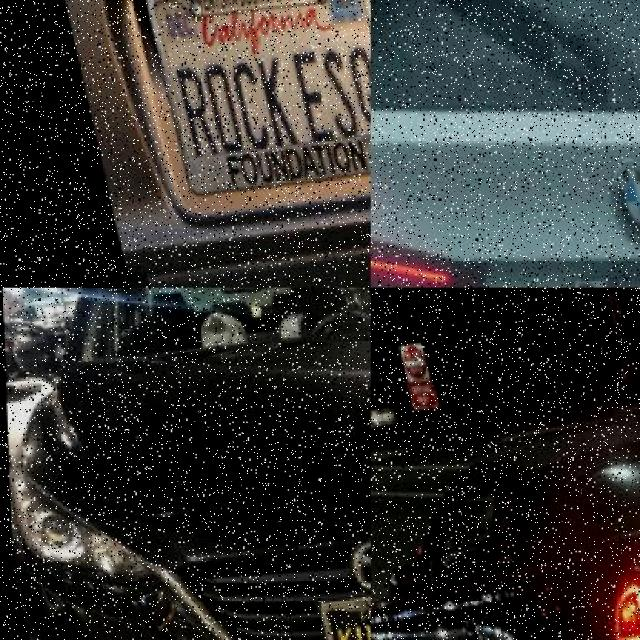licenseplate: (138, 0, 371, 205), (315, 588, 371, 640)
